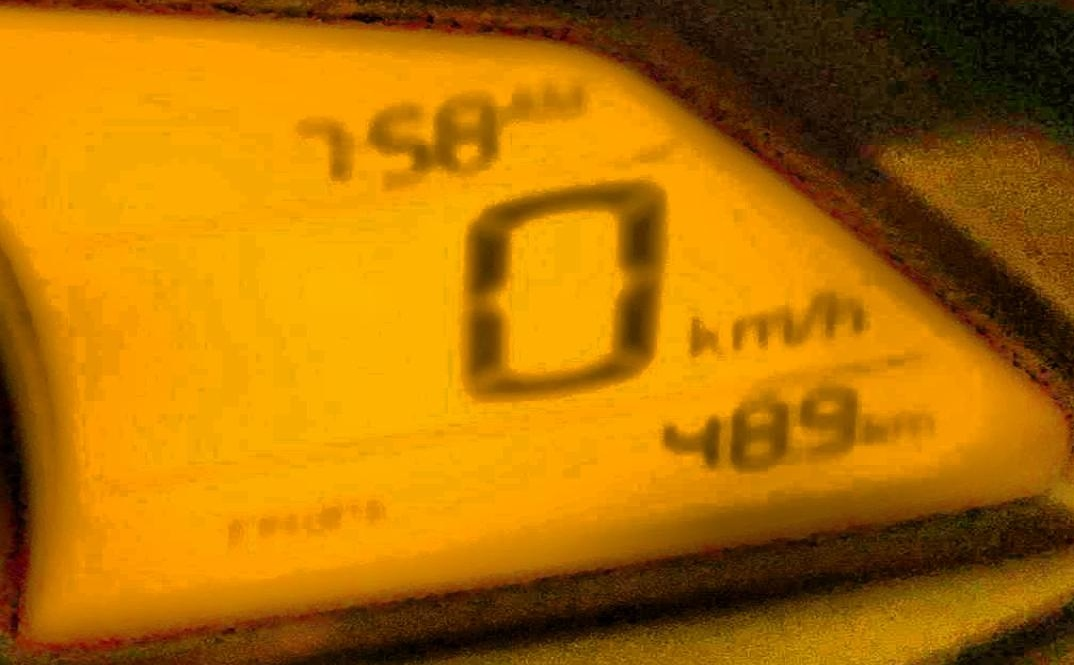0: (459, 185, 670, 395)
4: (653, 413, 724, 478)
5: (372, 105, 427, 188)
7: (287, 112, 359, 192)
8: (434, 93, 495, 171), (730, 396, 788, 475)
9: (797, 384, 854, 461)
X: (727, 308, 790, 357), (682, 306, 726, 364), (827, 290, 872, 345), (791, 290, 826, 352), (539, 77, 587, 116), (498, 82, 540, 117)
